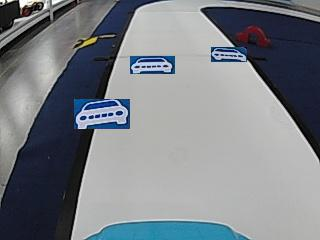bridge: (236, 23, 269, 46)
